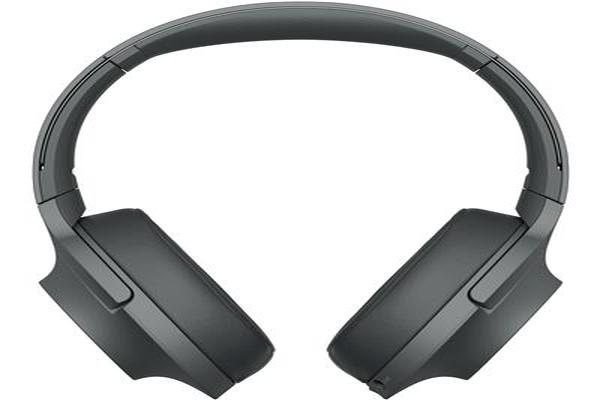headphone: (3, 1, 590, 400)
